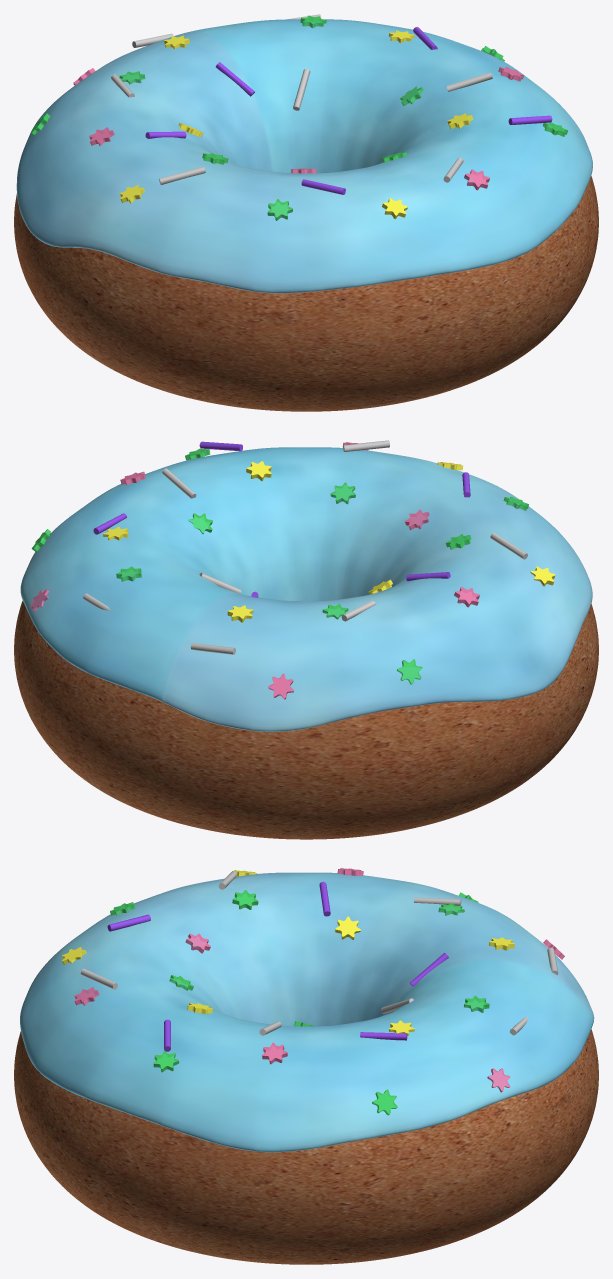
The model's file is donut.glb.
The picture shows the model from 3 angles, top to bottom: view 1: azimuth 30°, elevation 25°; view 2: azimuth 150°, elevation 25°; view 3: azimuth 270°, elevation 25°; orthographic projection.
Visible parts, largest first — view 1: 3DSMeshMatrix.006, 3DSMeshMatrix.003, 3DSMeshMatrix.004, 3DSMeshMatrix.005, 3DSMeshMatrix.002, 3DSMeshMatrix, 3DSMeshMatrix.001; view 2: 3DSMeshMatrix.006, 3DSMeshMatrix.003, 3DSMeshMatrix.004, 3DSMeshMatrix.005, 3DSMeshMatrix.001, 3DSMeshMatrix.002, 3DSMeshMatrix; view 3: 3DSMeshMatrix.006, 3DSMeshMatrix.003, 3DSMeshMatrix.004, 3DSMeshMatrix.001, 3DSMeshMatrix.002, 3DSMeshMatrix.005, 3DSMeshMatrix.
Boxes of the visible parts, x1,y1,x2,y2 form: 3DSMeshMatrix.006: [16, 19, 592, 293]; 3DSMeshMatrix.003: [14, 176, 598, 411]; 3DSMeshMatrix.004: [31, 15, 567, 220]; 3DSMeshMatrix.005: [111, 14, 492, 185]; 3DSMeshMatrix.002: [119, 30, 473, 219]; 3DSMeshMatrix: [145, 27, 552, 194]; 3DSMeshMatrix.001: [73, 66, 523, 190]; 3DSMeshMatrix.006: [20, 447, 592, 731]; 3DSMeshMatrix.003: [14, 601, 598, 839]; 3DSMeshMatrix.004: [31, 448, 528, 684]; 3DSMeshMatrix.005: [83, 440, 527, 654]; 3DSMeshMatrix.001: [30, 442, 479, 699]; 3DSMeshMatrix.002: [103, 461, 555, 622]; 3DSMeshMatrix: [93, 441, 470, 597]; 3DSMeshMatrix.006: [20, 872, 594, 1152]; 3DSMeshMatrix.003: [14, 1029, 598, 1264]; 3DSMeshMatrix.004: [110, 890, 489, 1115]; 3DSMeshMatrix.001: [74, 868, 564, 1092]; 3DSMeshMatrix.002: [62, 870, 514, 1035]; 3DSMeshMatrix.005: [80, 871, 558, 1035]; 3DSMeshMatrix: [107, 881, 448, 1051].
Bounding box in the file's own units: 20.13 × 9.96 × 20.04.
Materials: 8 (2 with a texture image).
